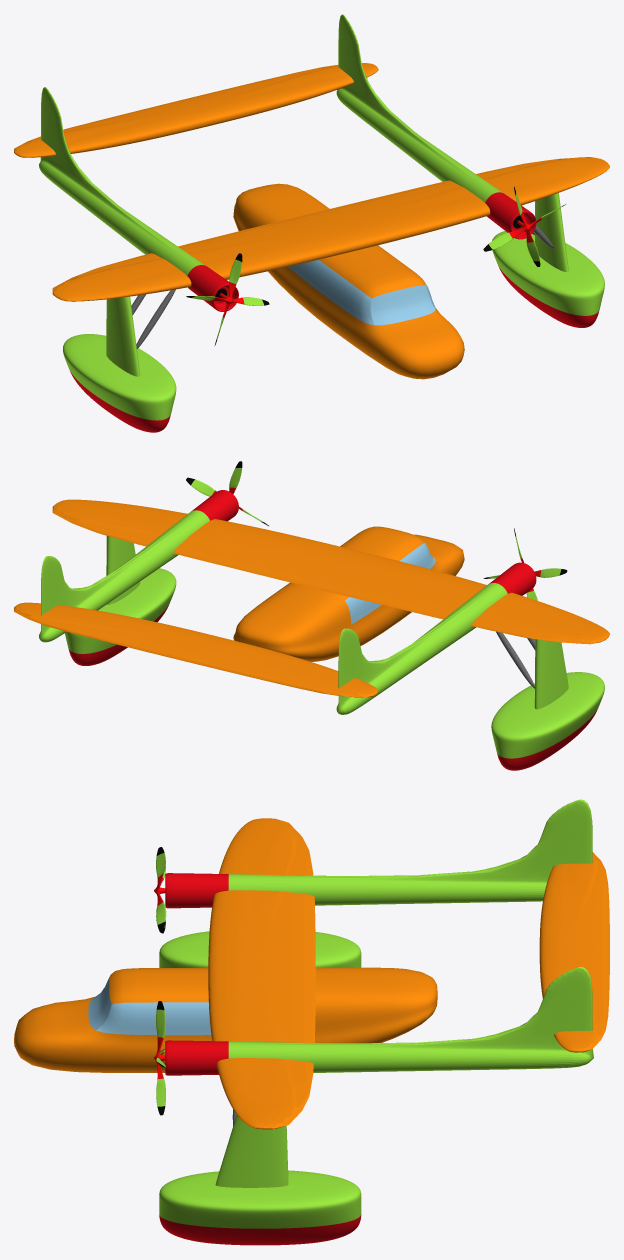
The picture shows the model from 3 angles, top to bottom: view 1: azimuth 30°, elevation 25°; view 2: azimuth 150°, elevation 25°; view 3: azimuth 270°, elevation 25°; orthographic projection. The views are drawn at different scales.
Parts seen in each view (by area): view 1: Cube.026, Cube.004, Cube.003, Cube.002, Cube.007, Cube.006; view 2: Cube.026, Cube.004, Cube.003, Cube.002, Cube.006, Cube.007; view 3: Cube.026, Cube.004, Cube.002, Cube.003, Cube.006, Cube.007.
Part boxes in pixels (x1,y1,x2,y2): Cube.026: (14, 14, 609, 311); Cube.004: (233, 183, 464, 379); Cube.003: (63, 289, 176, 432); Cube.002: (492, 193, 604, 327); Cube.007: (186, 253, 269, 345); Cube.006: (483, 186, 565, 266); Cube.026: (14, 490, 609, 714); Cube.004: (233, 526, 464, 661); Cube.003: (491, 631, 604, 770); Cube.002: (65, 536, 176, 665); Cube.006: (186, 461, 268, 525); Cube.007: (483, 528, 567, 600); Cube.026: (165, 799, 609, 1129); Cube.004: (14, 967, 437, 1072); Cube.002: (159, 1109, 361, 1245); Cube.003: (159, 931, 361, 967); Cube.006: (154, 1001, 165, 1115); Cube.007: (154, 847, 166, 933).
Size of the model in its own units: 2160 by 778 by 1756.
